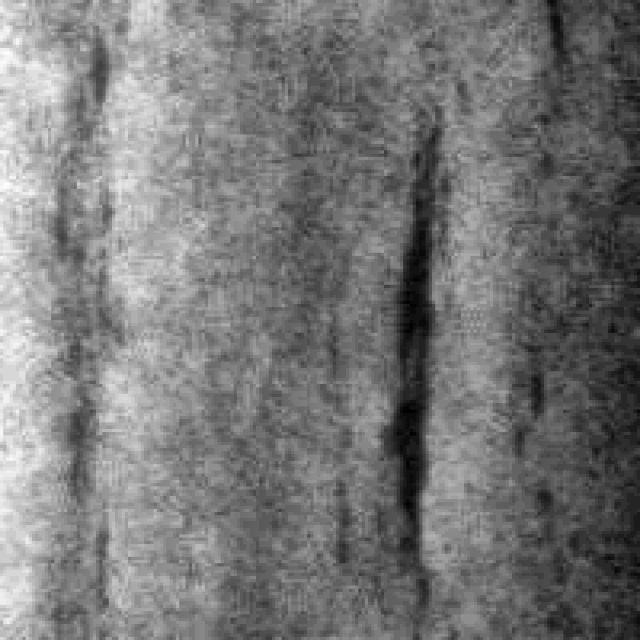Patches: (39, 121, 138, 612), (355, 86, 451, 576), (58, 10, 128, 134), (534, 0, 573, 115)
